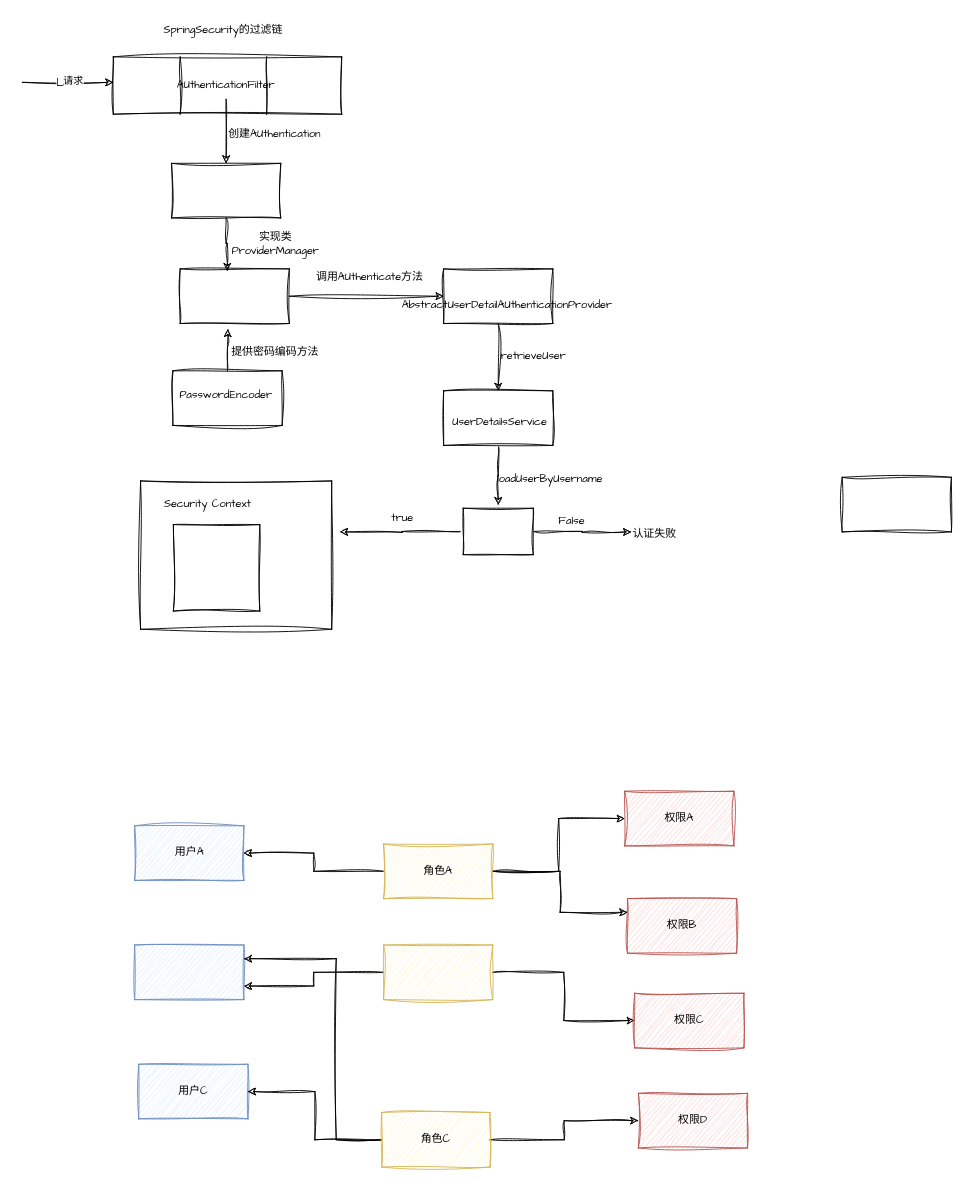
This 967x1183 diagram has some shape labels left out. The shapes that lost their labels are listed below. From the top down, each one's centre as x and y in pixels, then its label:
At (226,190): "AuthenticationManager".
At (234,296): "拿到Provider".
At (497,531): "结果".
At (216,567): "Authentication".
At (189,972): "用户B".
At (438,972): "角色B".
